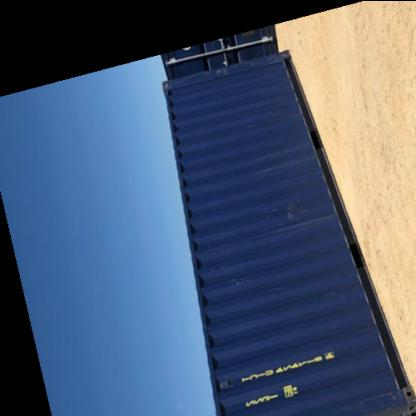Damage: (210, 249, 262, 304), (265, 189, 319, 227)
